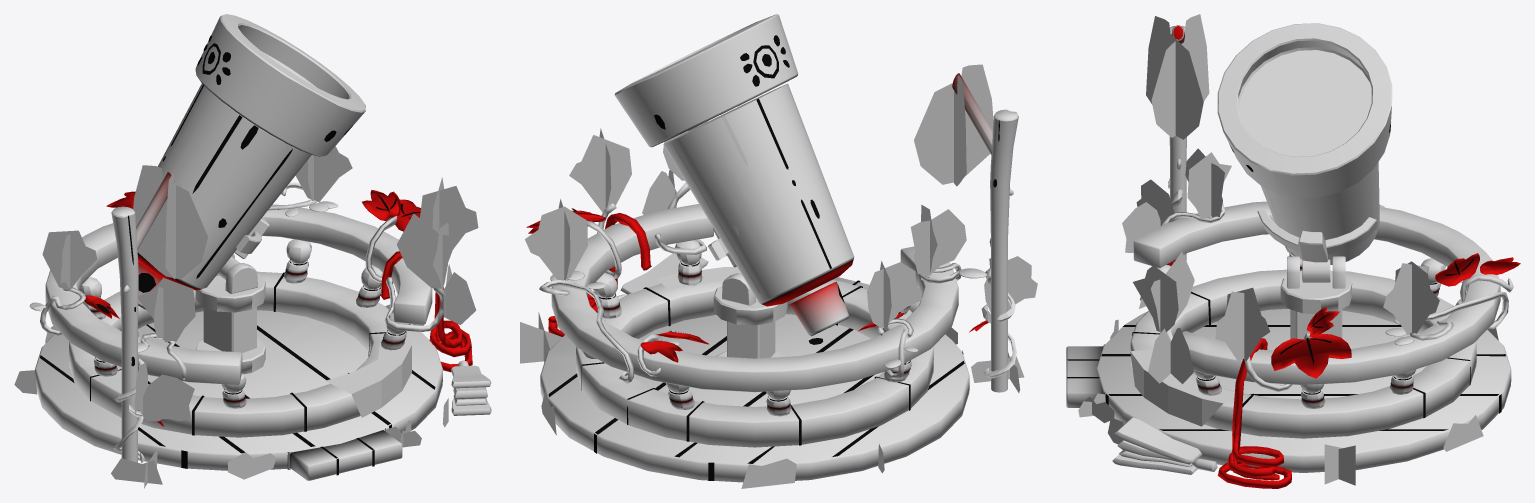
The model's file is Mesh_Home_RF_Balloon_SM.fbx.
3 views of the same model, side by side, from view 1: azimuth 30°, elevation 25°; view 2: azimuth 150°, elevation 25°; view 3: azimuth 270°, elevation 25° (orthographic). The views are drawn at different scales.
Parts seen in each view (by area): view 1: Mesh_Home_RF_Balloon, Mesh_Home_RF_Balloon_P; view 2: Mesh_Home_RF_Balloon, Mesh_Home_RF_Balloon_P; view 3: Mesh_Home_RF_Balloon, Mesh_Home_RF_Balloon_P.
Boxes of the visible parts, bbox=[...] form: Mesh_Home_RF_Balloon: bbox=[29, 14, 491, 480]; Mesh_Home_RF_Balloon_P: bbox=[14, 146, 478, 488]; Mesh_Home_RF_Balloon: bbox=[526, 14, 1018, 482]; Mesh_Home_RF_Balloon_P: bbox=[520, 64, 1037, 488]; Mesh_Home_RF_Balloon: bbox=[1066, 23, 1520, 488]; Mesh_Home_RF_Balloon_P: bbox=[1078, 14, 1498, 485].
Size of the model in its own units: 301 by 257 by 291.
